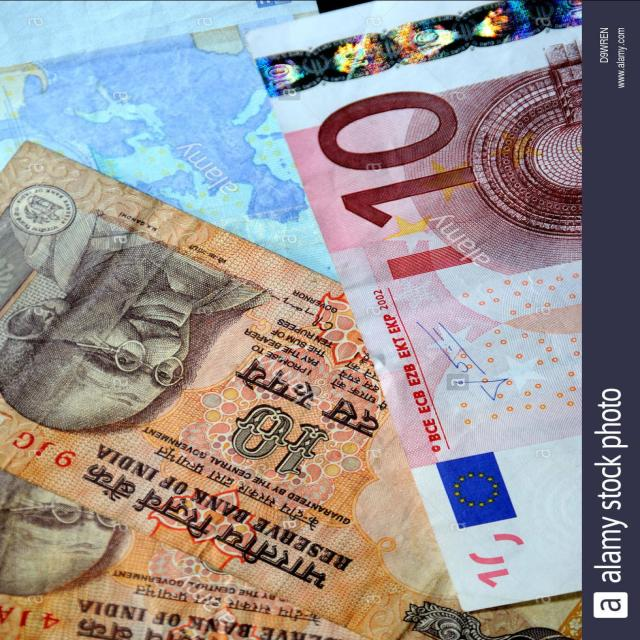10IndianRupees: (0, 157, 403, 626)
